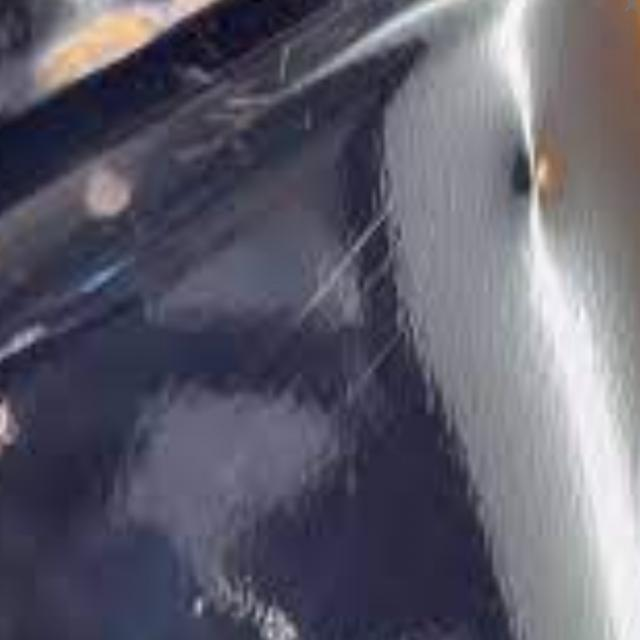dents: (491, 117, 562, 252)
